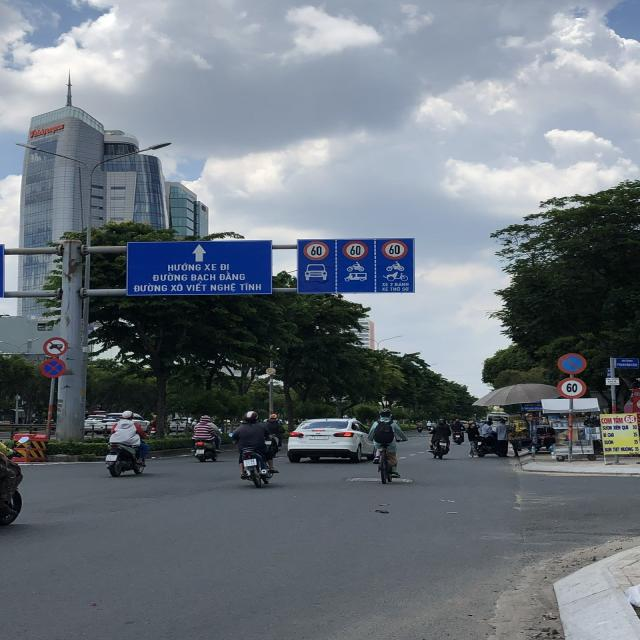Bien bao cam do xe: (554, 352, 590, 376)
Bien bao cam dung xe va do xe: (39, 355, 70, 379)
Bien bao cam xe oto tai: (37, 333, 73, 357)
Bien bao toc do toi da cho phep: (554, 375, 592, 399), (340, 238, 371, 262), (378, 238, 411, 260), (300, 238, 330, 262)
